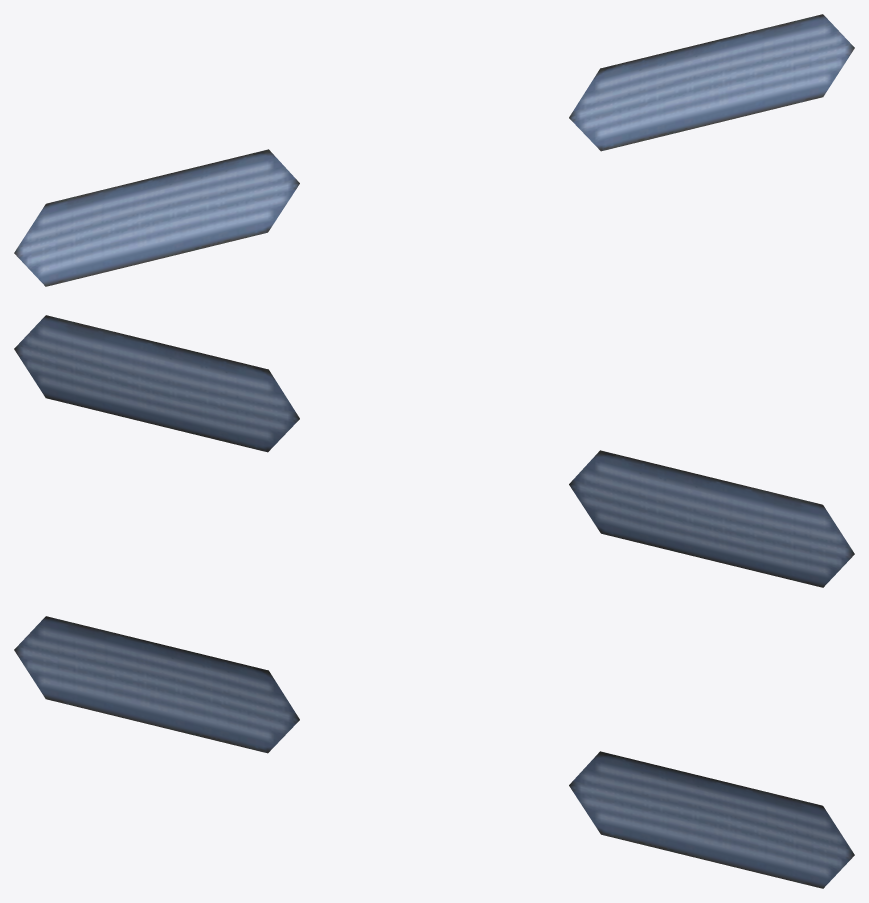
The model's file is imperial_gunboat_engine_on_l2.fbx.
3 views of the same model, one above another, from view 1: azimuth 30°, elevation 25°; view 2: azimuth 150°, elevation 25°; view 3: azimuth 330°, elevation 25° (orthographic).
Visible parts, largest first — view 1: mesh_node; view 2: mesh_node; view 3: mesh_node.
Part boxes in pixels (bbox=[...]): mesh_node: bbox=[14, 14, 854, 286]; mesh_node: bbox=[14, 315, 854, 587]; mesh_node: bbox=[14, 616, 854, 888].
Size of the model in its own units: 40.54 by 3.83 by 0.2657.
Materials: 1 (1 with a texture image).
